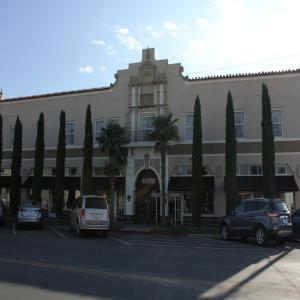Vehicle-registration-plate: (95, 215, 100, 219), (283, 220, 288, 223), (29, 212, 32, 213)
